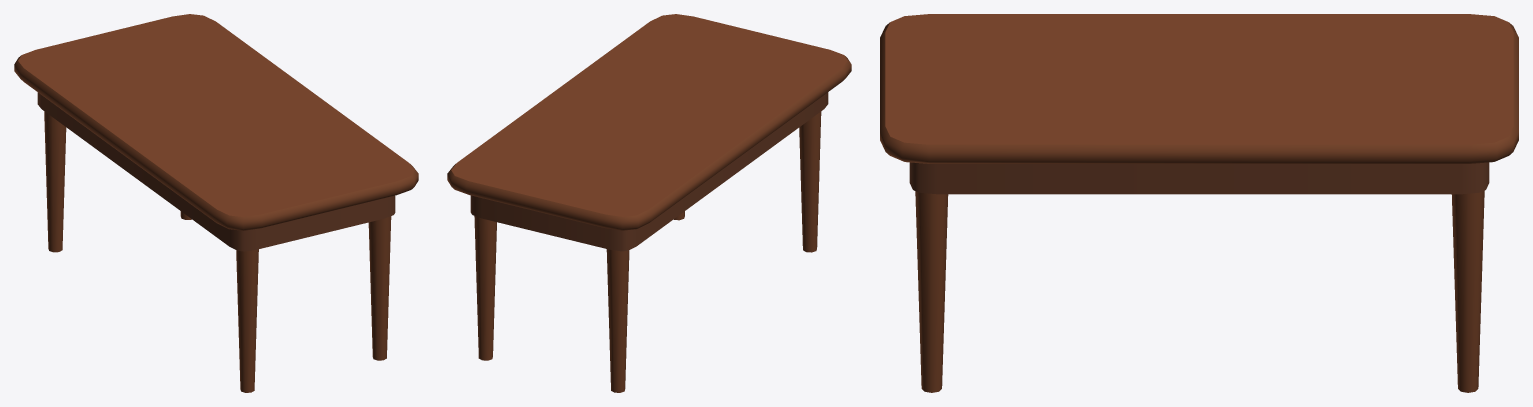
Rendered from table-big.glb.
3 renders of one model, left to right at view 1: azimuth 30°, elevation 25°; view 2: azimuth 150°, elevation 25°; view 3: azimuth 270°, elevation 25°, orthographic. The views are drawn at different scales.
Visible parts, largest first — view 1: table_x2; view 2: table_x2; view 3: table_x2.
Part boxes in pixels (<box>): table_x2: <box>14,14,418,392</box>; table_x2: <box>447,14,851,392</box>; table_x2: <box>880,14,1518,392</box>.
Size of the model in its own units: 1 by 0.9087 by 2.
